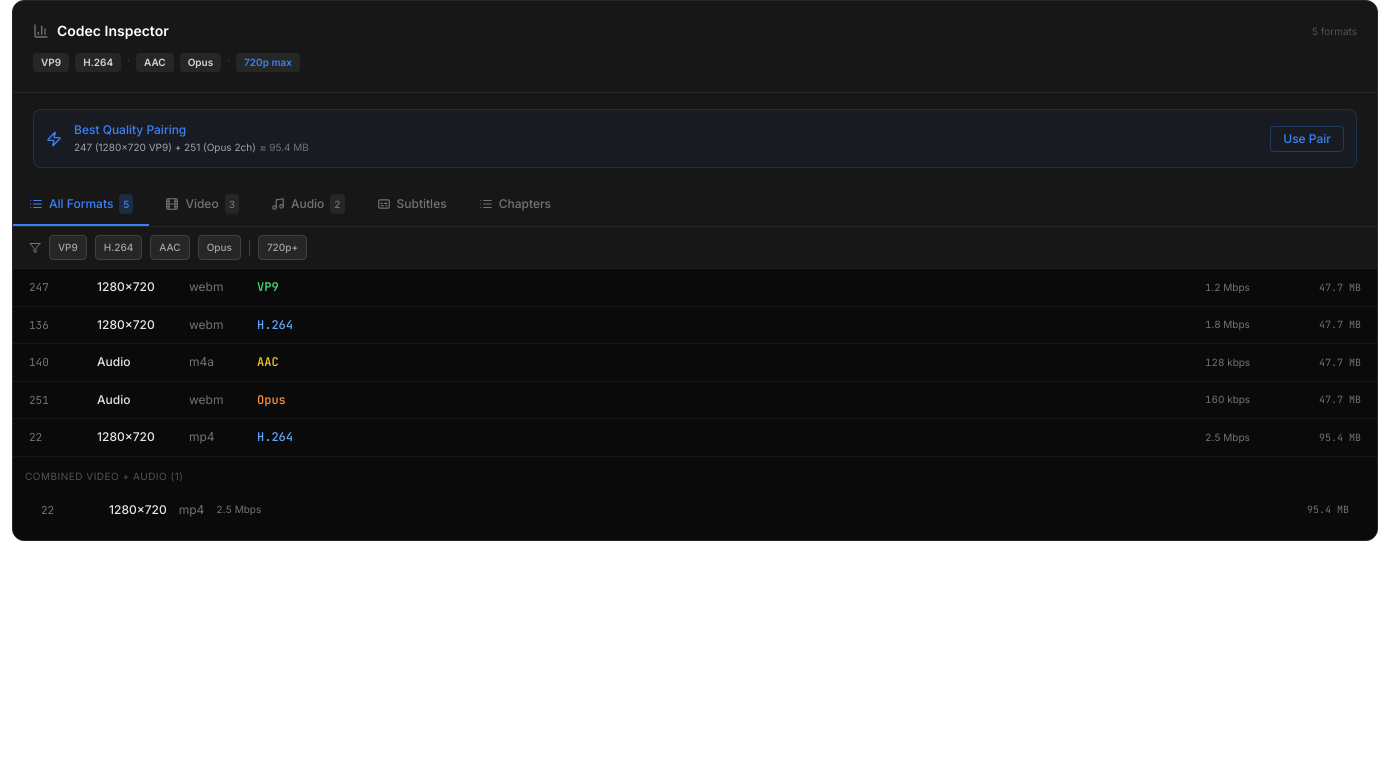
FormatInspector › shows empty chapter message when no chapters
Click the button "Chapters" at (515, 205), box [463,184,567,226]
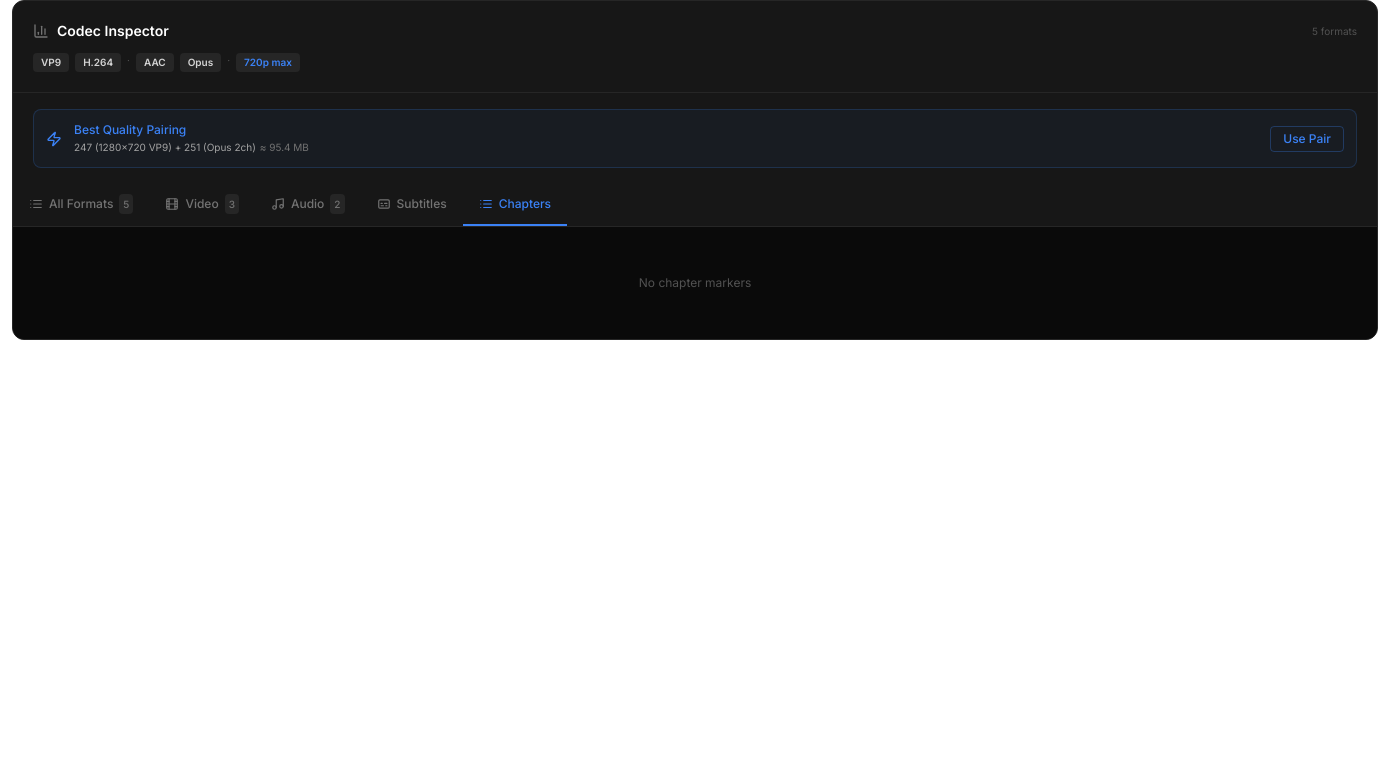
Expected: the text "No chapter markers" is shown, [639,275,751,291]
